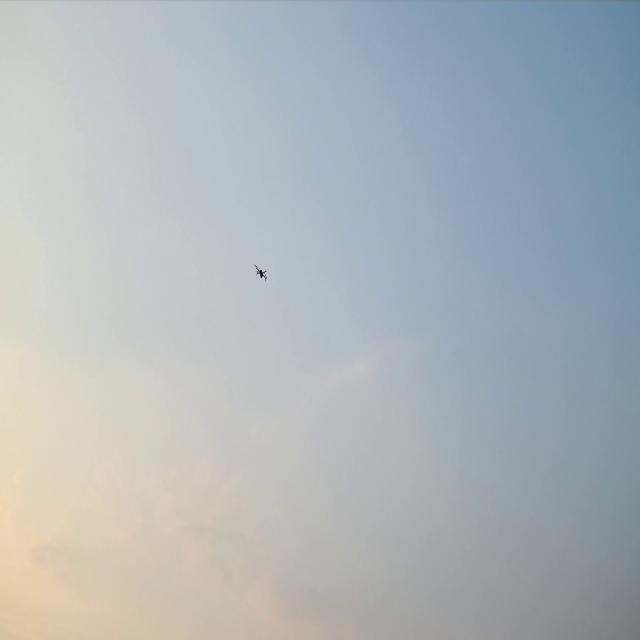UAV: (254, 263, 268, 282)
